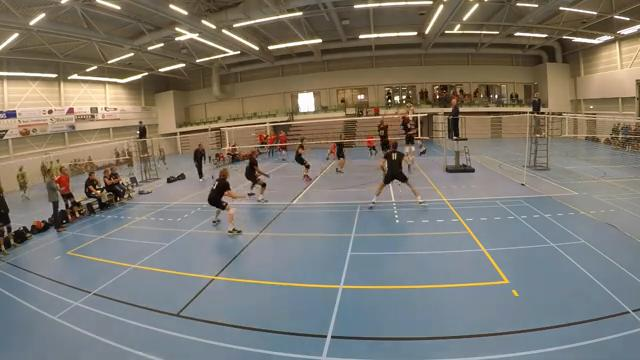muro: (371, 102, 393, 172), (397, 101, 419, 168)
